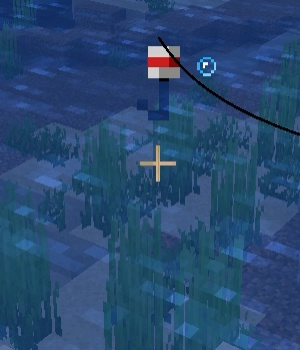up: (136, 42, 185, 124)
